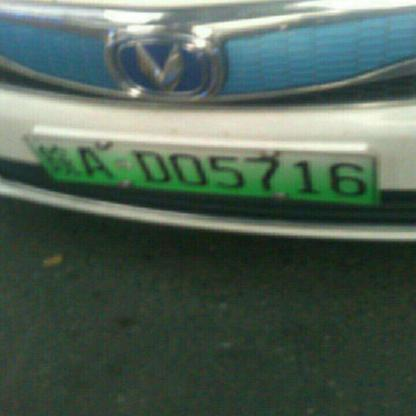lp: (58, 134, 360, 209)
